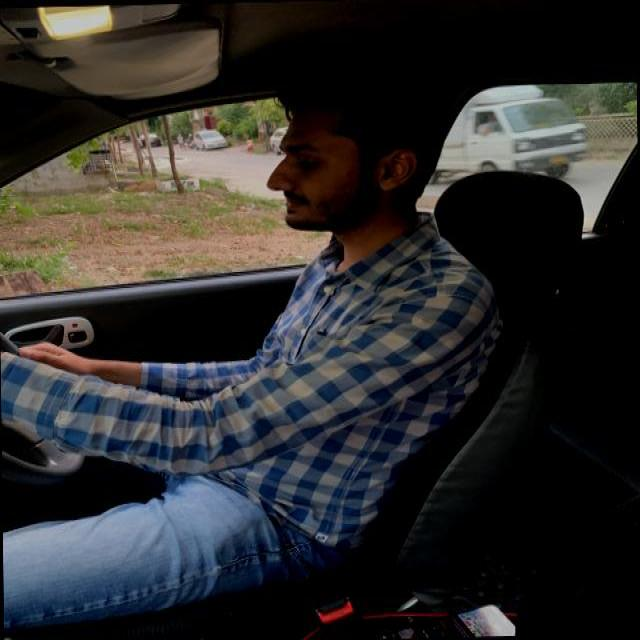no-seatbelt: (121, 224, 506, 640)
